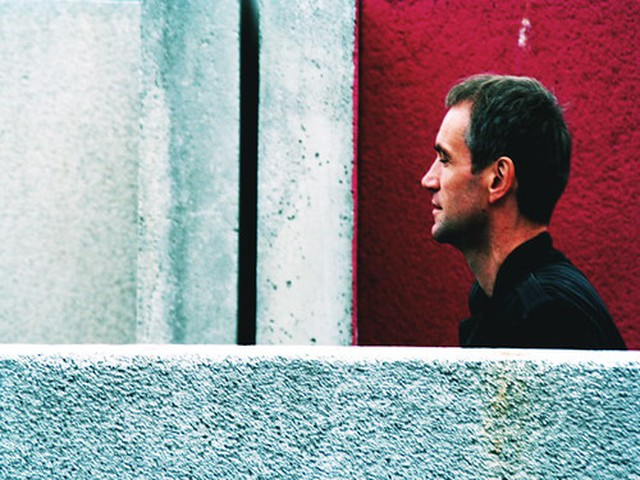Person: (422, 73, 625, 350)
